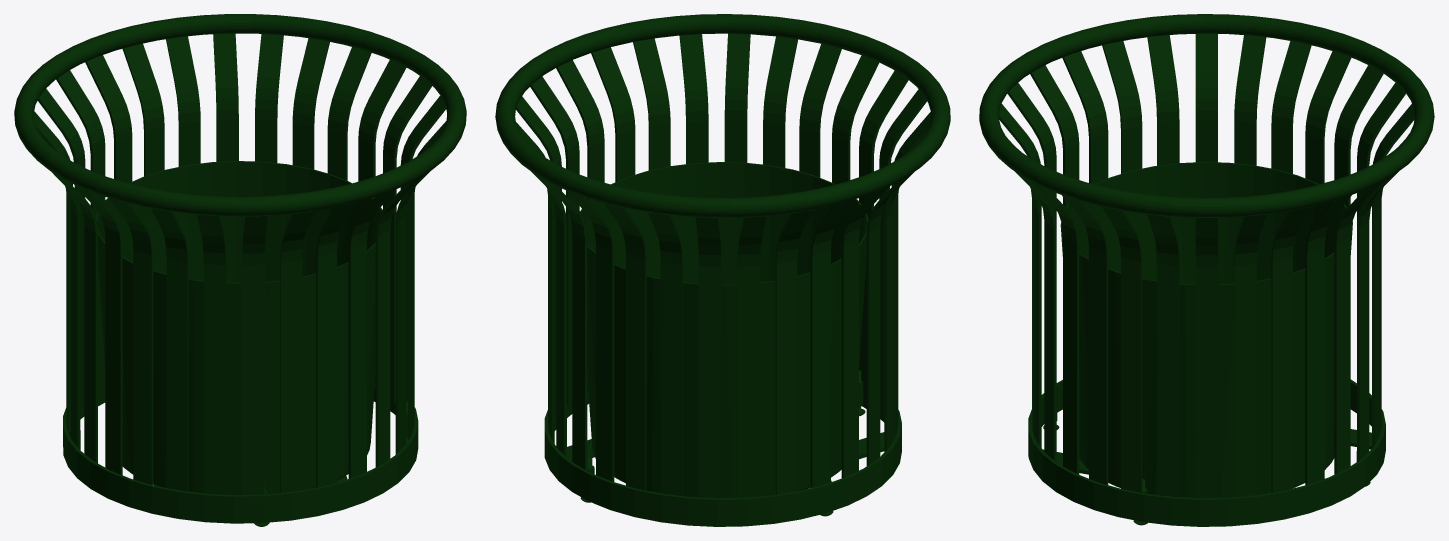
3 views of the same model, side by side, from view 1: azimuth 30°, elevation 25°; view 2: azimuth 150°, elevation 25°; view 3: azimuth 270°, elevation 25° (orthographic).
Visible parts, largest first — view 1: mesh34_mesh34-geometry, mesh35_mesh35-geometry, mesh24_mesh24-geometry, mesh14_mesh14-geometry, mesh13_mesh13-geometry, mesh20_mesh20-geometry, mesh15_mesh15-geometry, mesh19_mesh19-geometry, mesh16_mesh16-geometry, mesh5_mesh5-geometry, mesh18_mesh18-geometry, mesh17_mesh17-geometry (+18 smaller); view 2: mesh34_mesh34-geometry, mesh35_mesh35-geometry, mesh24_mesh24-geometry, mesh42_mesh42-geometry, mesh41_mesh41-geometry, mesh43_mesh43-geometry, mesh40_mesh40-geometry, mesh21_mesh21-geometry, mesh39_mesh39-geometry, mesh1_mesh1-geometry, mesh38_mesh38-geometry, mesh4_mesh4-geometry (+18 smaller); view 3: mesh34_mesh34-geometry, mesh35_mesh35-geometry, mesh24_mesh24-geometry, mesh3_mesh3-geometry, mesh11_mesh11-geometry, mesh2_mesh2-geometry, mesh12_mesh12-geometry, mesh6_mesh6-geometry, mesh7_mesh7-geometry, mesh10_mesh10-geometry, mesh8_mesh8-geometry, mesh9_mesh9-geometry (+17 smaller).
Boxes of the visible parts, x1=… form: mesh34_mesh34-geometry: x1=96, y1=161, x2=382, y2=494; mesh35_mesh35-geometry: x1=14, y1=14, x2=466, y2=216; mesh24_mesh24-geometry: x1=63, y1=375, x2=418, y2=523; mesh14_mesh14-geometry: x1=197, y1=214, x2=225, y2=494; mesh13_mesh13-geometry: x1=242, y1=215, x2=267, y2=494; mesh20_mesh20-geometry: x1=280, y1=211, x2=315, y2=492; mesh15_mesh15-geometry: x1=150, y1=208, x2=188, y2=491; mesh19_mesh19-geometry: x1=316, y1=202, x2=358, y2=487; mesh16_mesh16-geometry: x1=109, y1=198, x2=153, y2=484; mesh5_mesh5-geometry: x1=348, y1=189, x2=396, y2=478; mesh18_mesh18-geometry: x1=74, y1=184, x2=122, y2=475; mesh17_mesh17-geometry: x1=375, y1=175, x2=423, y2=467; mesh34_mesh34-geometry: x1=580, y1=162, x2=868, y2=497; mesh35_mesh35-geometry: x1=495, y1=14, x2=950, y2=217; mesh24_mesh24-geometry: x1=544, y1=378, x2=901, y2=526; mesh42_mesh42-geometry: x1=695, y1=217, x2=721, y2=498; mesh41_mesh41-geometry: x1=737, y1=216, x2=766, y2=497; mesh43_mesh43-geometry: x1=647, y1=212, x2=682, y2=495; mesh40_mesh40-geometry: x1=775, y1=209, x2=813, y2=494; mesh21_mesh21-geometry: x1=604, y1=203, x2=646, y2=490; mesh39_mesh39-geometry: x1=810, y1=199, x2=855, y2=487; mesh1_mesh1-geometry: x1=566, y1=190, x2=614, y2=481; mesh38_mesh38-geometry: x1=841, y1=186, x2=889, y2=478; mesh4_mesh4-geometry: x1=538, y1=176, x2=587, y2=469; mesh34_mesh34-geometry: x1=1060, y1=162, x2=1352, y2=497; mesh35_mesh35-geometry: x1=979, y1=14, x2=1434, y2=217; mesh24_mesh24-geometry: x1=1028, y1=379, x2=1385, y2=526; mesh3_mesh3-geometry: x1=1147, y1=214, x2=1179, y2=497; mesh11_mesh11-geometry: x1=1234, y1=214, x2=1266, y2=497; mesh2_mesh2-geometry: x1=1195, y1=217, x2=1217, y2=498; mesh12_mesh12-geometry: x1=1271, y1=206, x2=1311, y2=492; mesh6_mesh6-geometry: x1=1102, y1=206, x2=1142, y2=492; mesh7_mesh7-geometry: x1=1062, y1=195, x2=1108, y2=484; mesh10_mesh10-geometry: x1=1305, y1=195, x2=1351, y2=485; mesh8_mesh8-geometry: x1=1029, y1=180, x2=1079, y2=474; mesh9_mesh9-geometry: x1=1334, y1=181, x2=1383, y2=474.
Size of the model in its own units: 0.6057 by 0.5161 by 0.6056.
